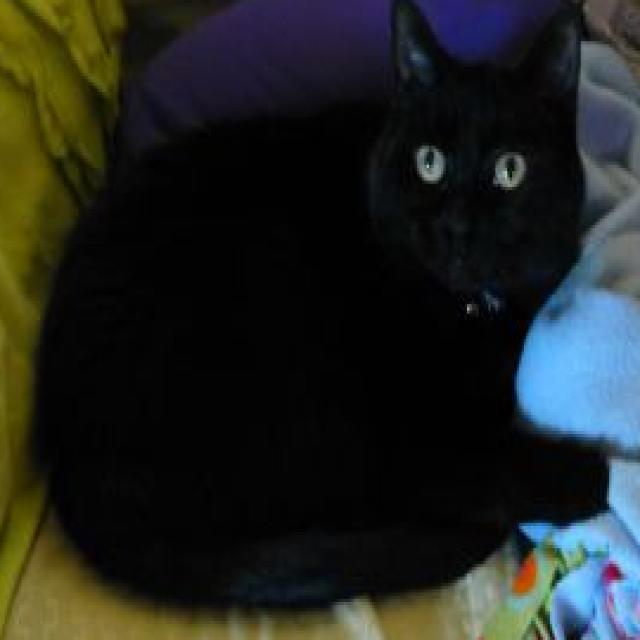Bombay: (29, 0, 616, 618)
